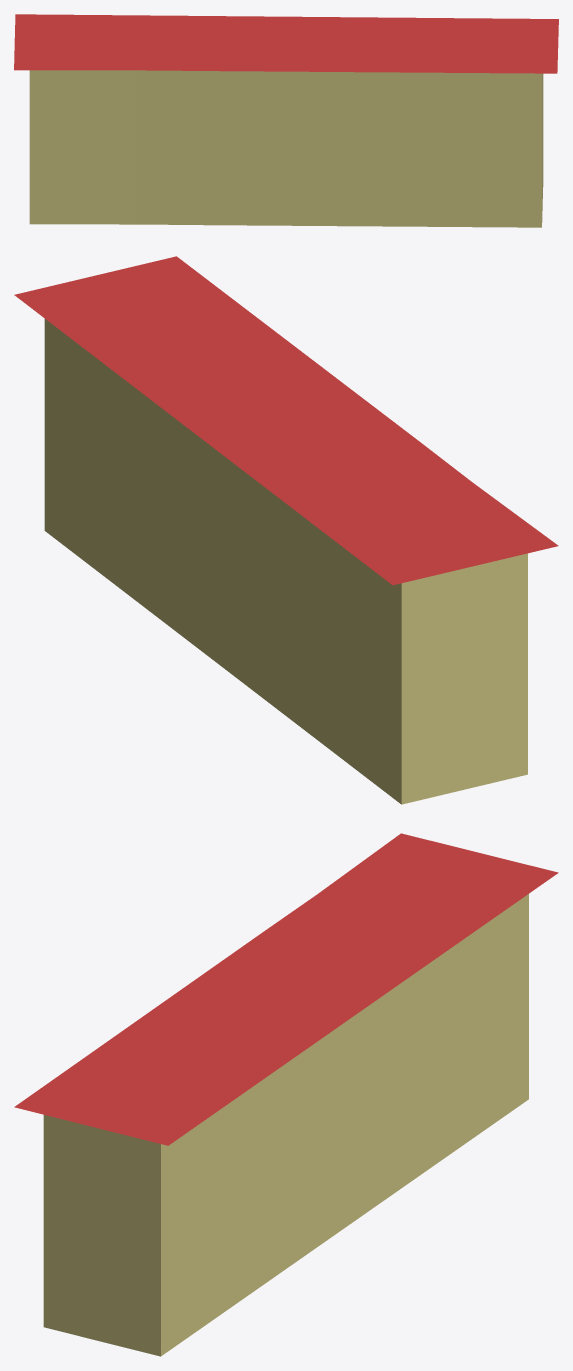
3 views of the same model, one above another, from view 1: azimuth 30°, elevation 25°; view 2: azimuth 150°, elevation 25°; view 3: azimuth 270°, elevation 25° (orthographic). The views are drawn at different scales.
Visible parts, largest first — view 1: group_5, group_3, group_4; view 2: group_5, group_3, group_4; view 3: group_5, group_3, group_4.
Part boxes in pixels (x1,y1,x2,y2): group_5: [29, 70, 543, 227]; group_3: [14, 19, 558, 73]; group_4: [14, 14, 558, 73]; group_5: [44, 319, 527, 804]; group_3: [15, 256, 558, 572]; group_4: [14, 257, 556, 585]; group_5: [43, 894, 528, 1356]; group_3: [14, 833, 528, 1145]; group_4: [15, 833, 558, 1145].
Size of the model in its own units: 51.15 by 37.69 by 17.05.
